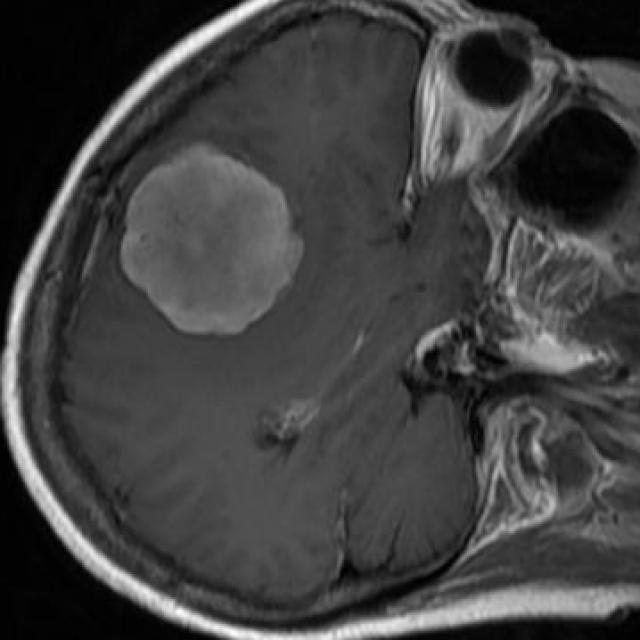meningioma: (119, 144, 299, 337)
